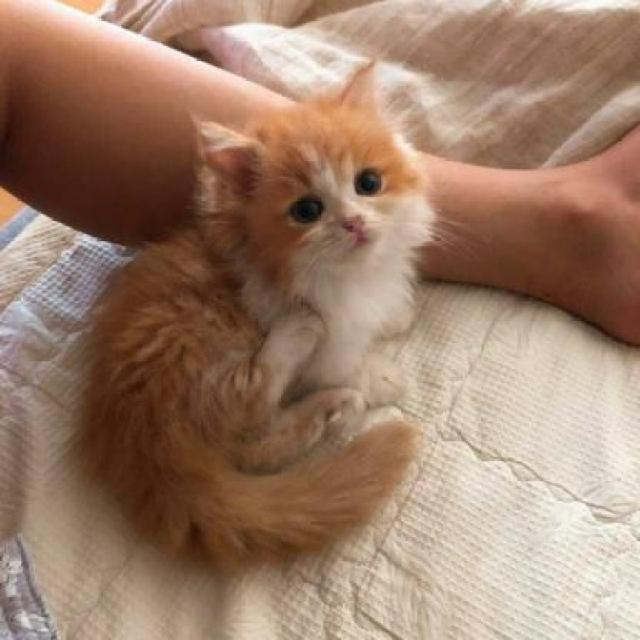cat: (114, 65, 434, 573)
